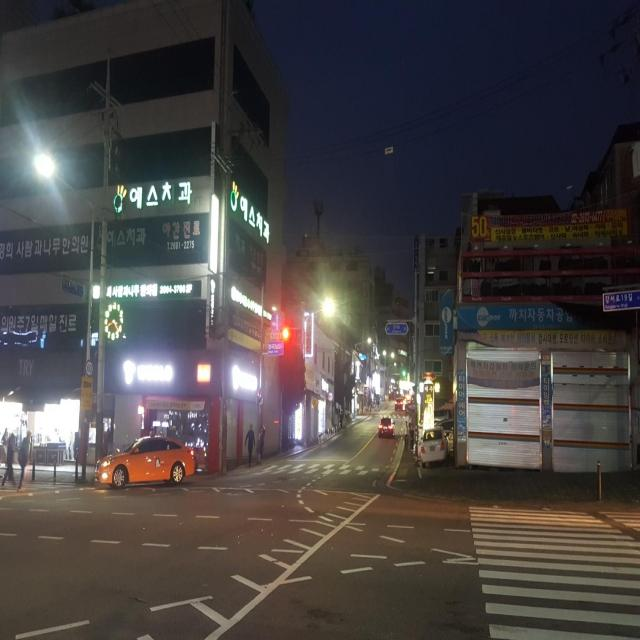횡단보도: (470, 504, 640, 640), (256, 464, 394, 477)
